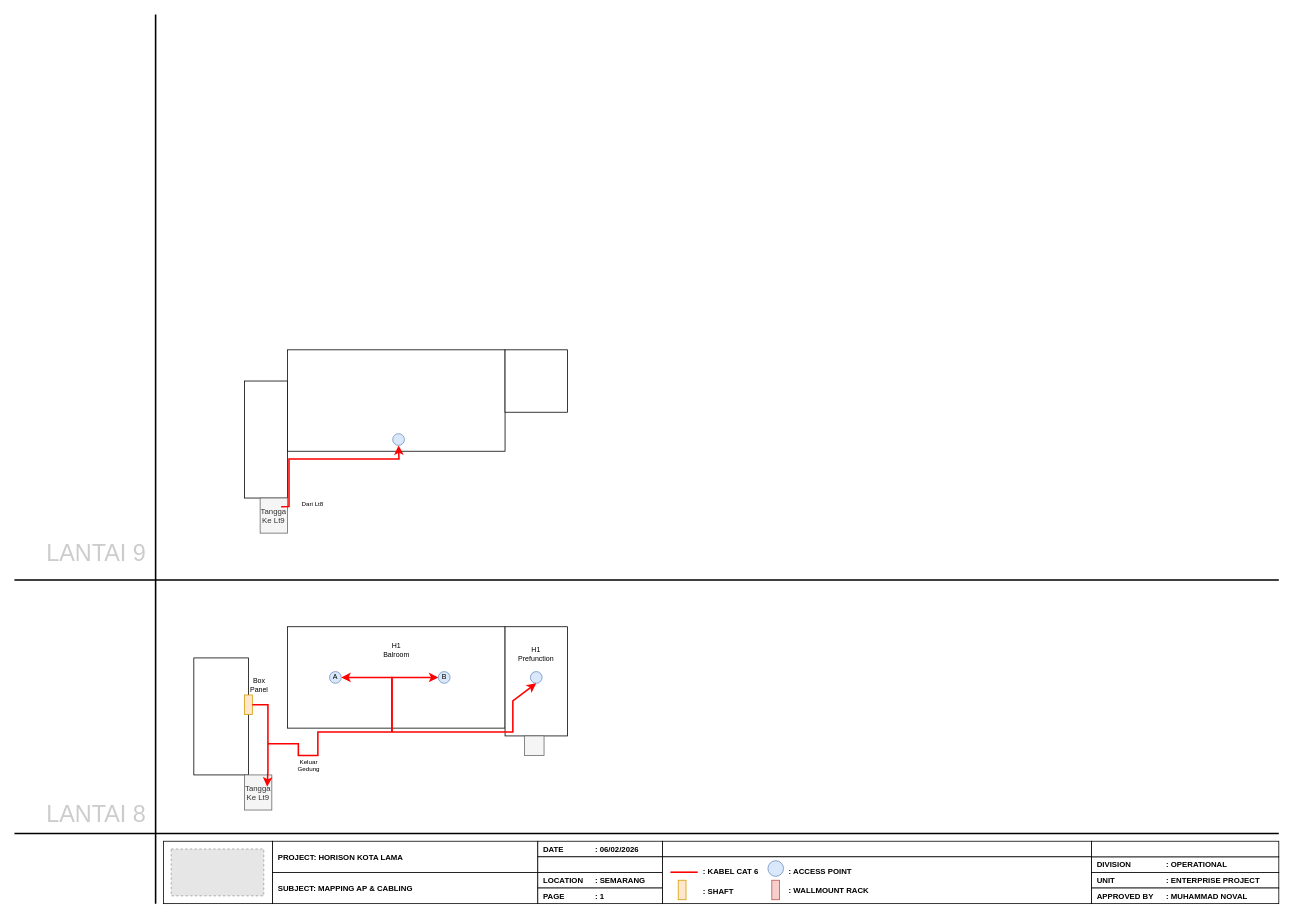
This 1293x918 diagram has some shape labels left out. Grey dashed boxes stand in for pictures. The shapes that lost their labels are listed below. From the top down, each one's box as (x1, y1, x2, y2) in pixels, then its label:
(287, 349, 505, 451): H9
(193, 657, 248, 775): Shaft Turun
(524, 735, 544, 755): Lift
(537, 856, 663, 872): FILE : TOPOLOGY
(662, 840, 1092, 857): LEGEND:
(1091, 840, 1279, 857): CREATED BY : HENOKH ZOE FAITH
